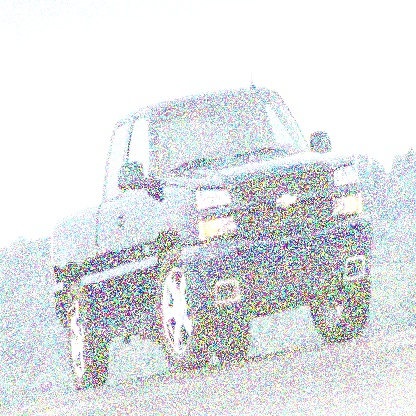Vehicle: (47, 69, 381, 391)
